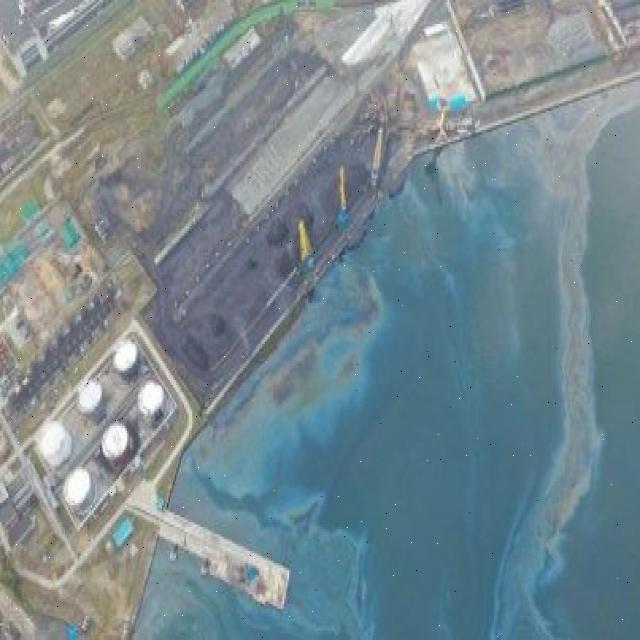sheen: (135, 257, 381, 640), (503, 99, 611, 638), (543, 123, 562, 189)
